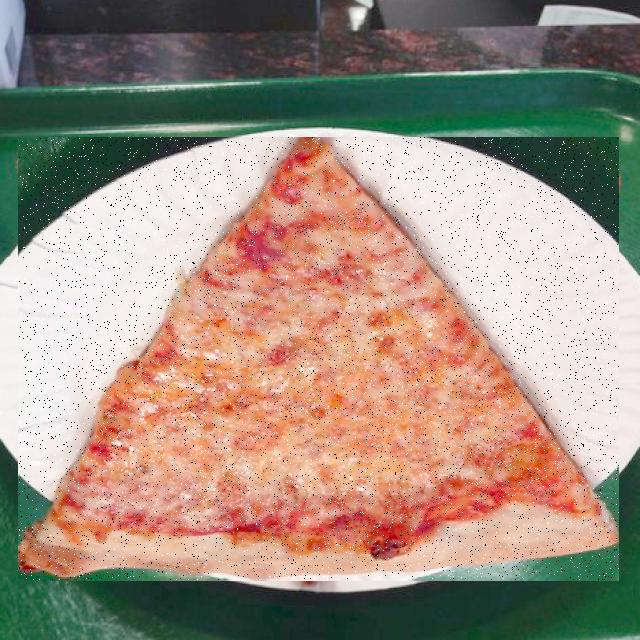Pizza: (19, 138, 619, 580)
